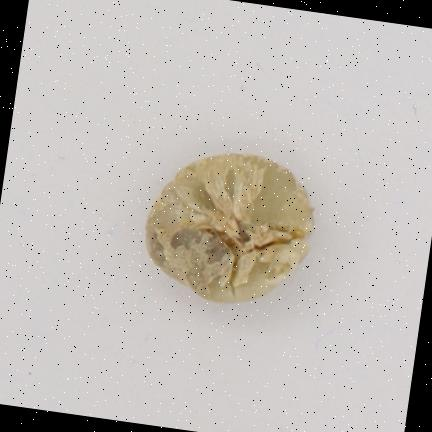immature: (147, 153, 313, 302)
